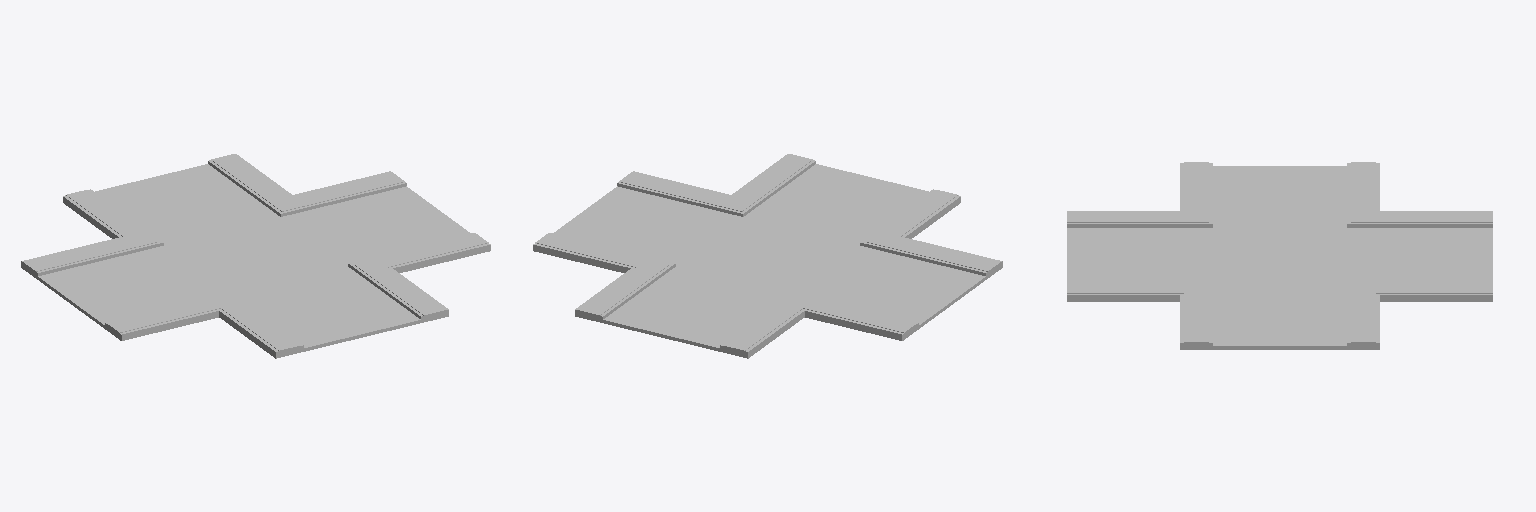
The model's file is cruce.obj.
The picture shows the model from 3 angles: view 1: azimuth 30°, elevation 25°; view 2: azimuth 150°, elevation 25°; view 3: azimuth 270°, elevation 25°; orthographic projection.
Visible parts, largest first — view 1: polySurface1038 crossroads_one_pavementFBXASC046004; view 2: polySurface1038 crossroads_one_pavementFBXASC046004; view 3: polySurface1038 crossroads_one_pavementFBXASC046004.
Boxes of the visible parts, <box> form: polySurface1038 crossroads_one_pavementFBXASC046004: <box>21,154,490,358</box>; polySurface1038 crossroads_one_pavementFBXASC046004: <box>533,154,1002,358</box>; polySurface1038 crossroads_one_pavementFBXASC046004: <box>1067,162,1492,349</box>.
Size of the model in its own units: 140 by 2.59 by 140.